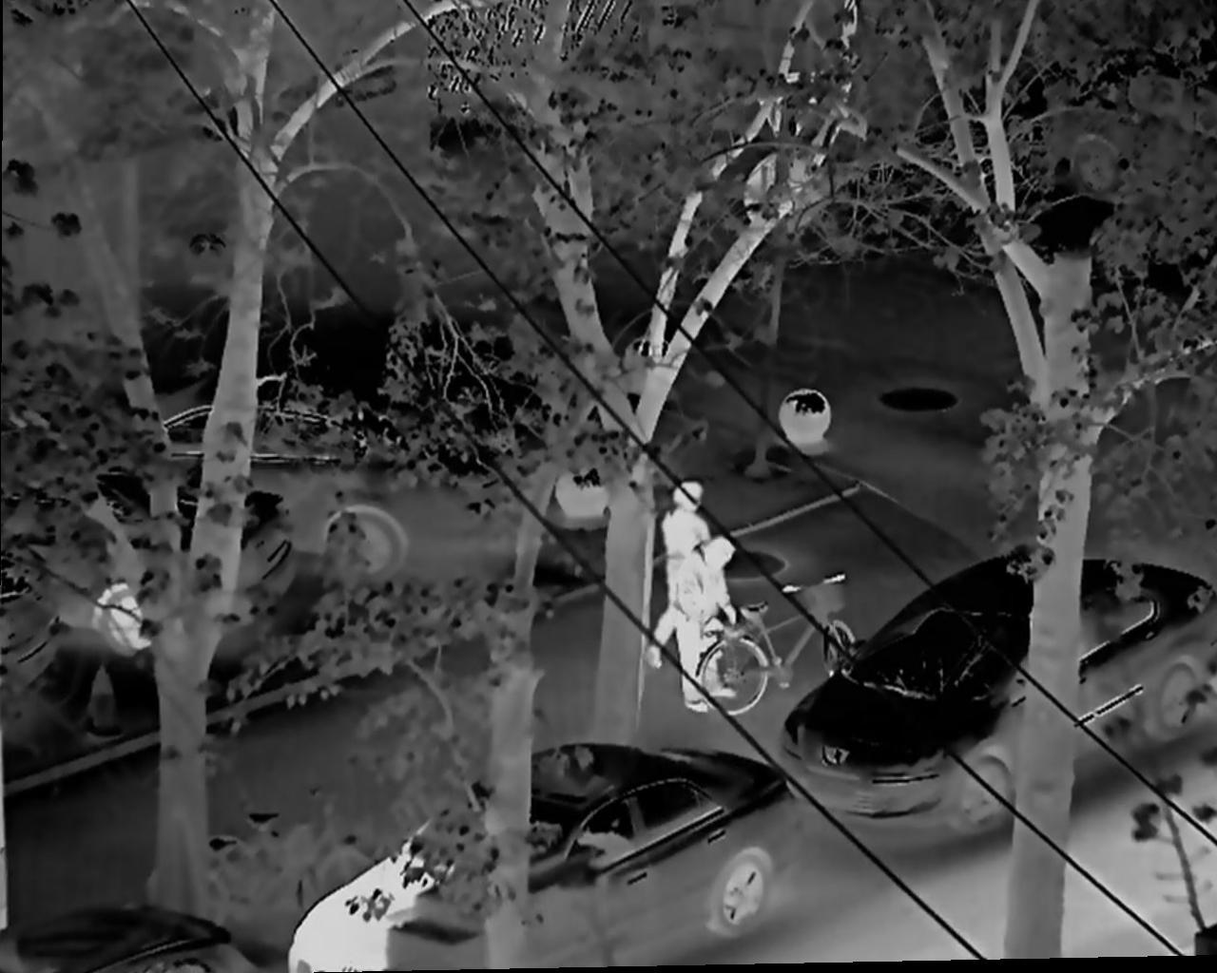person: (647, 481, 713, 670), (674, 534, 738, 713)
